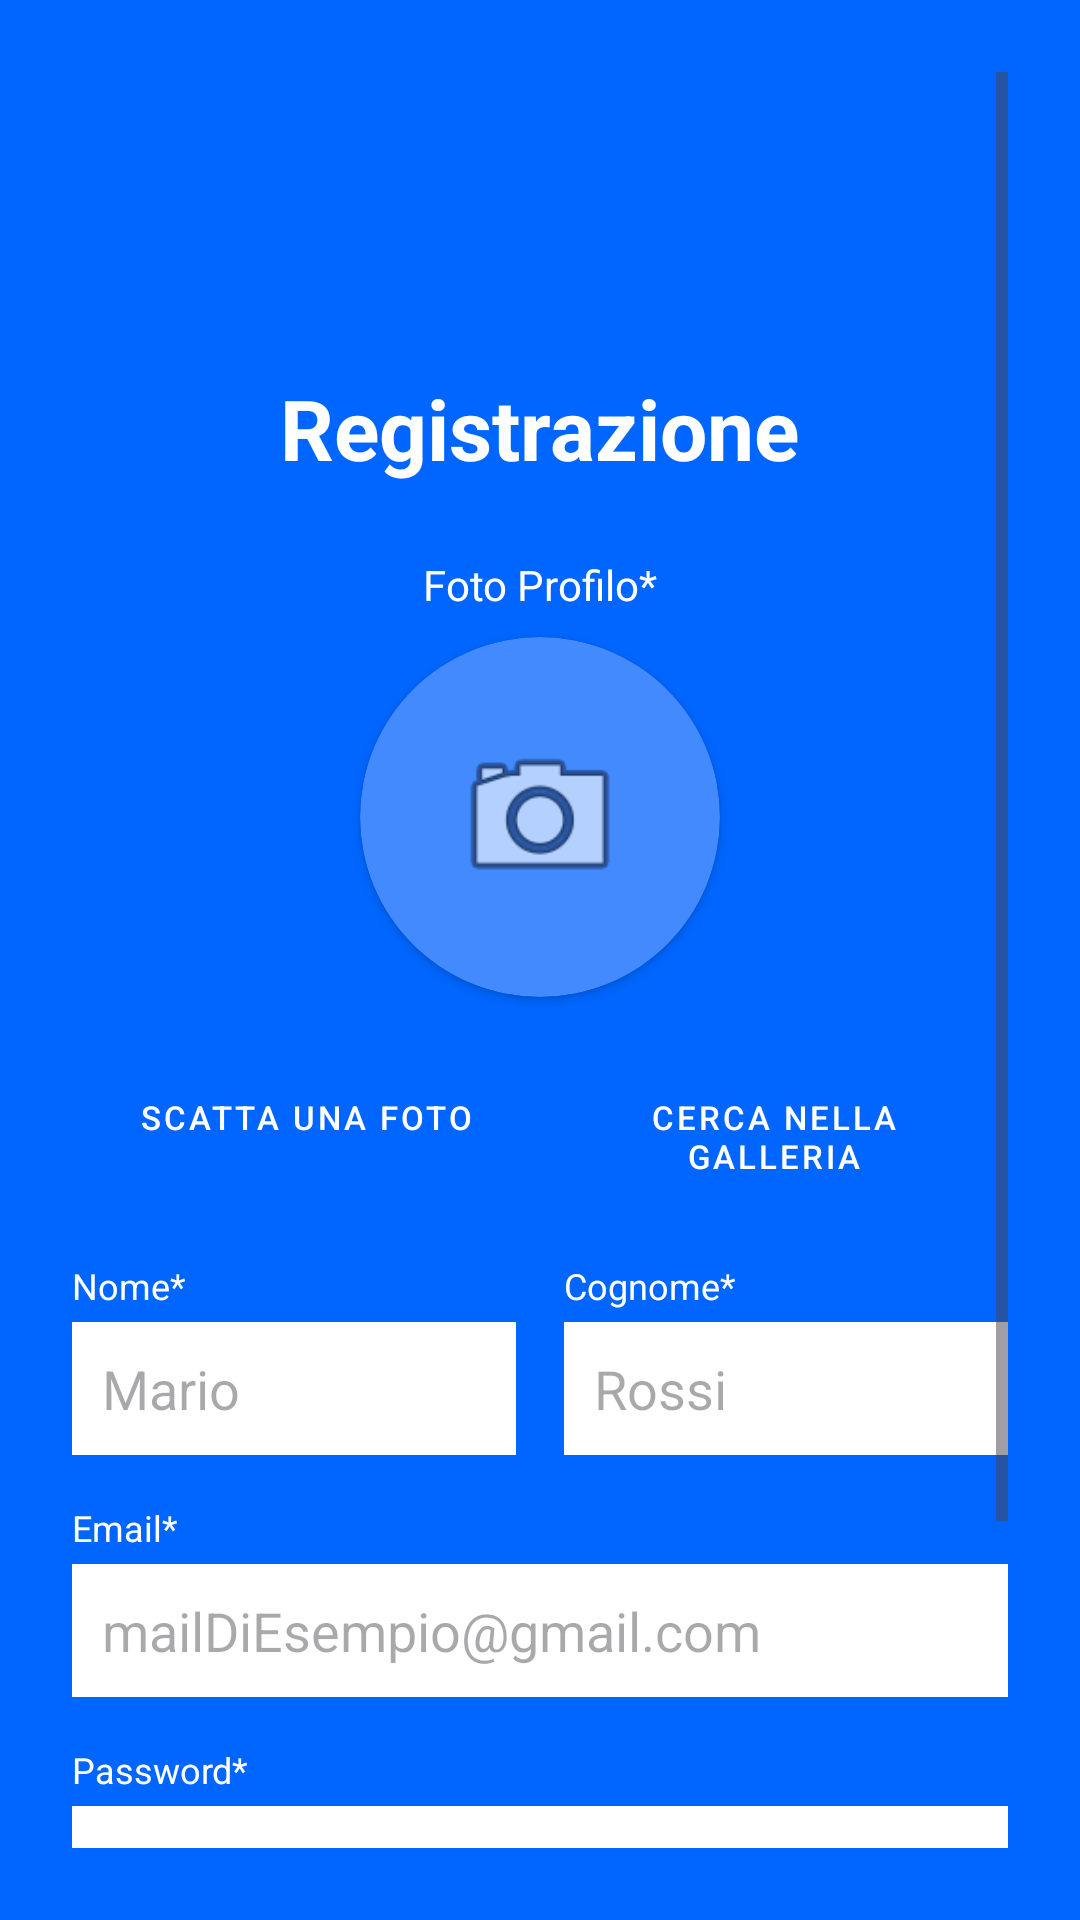

Named icons in this screenshot (1080px×1920px) and their centers, (x,y):
camera: (540,817)
